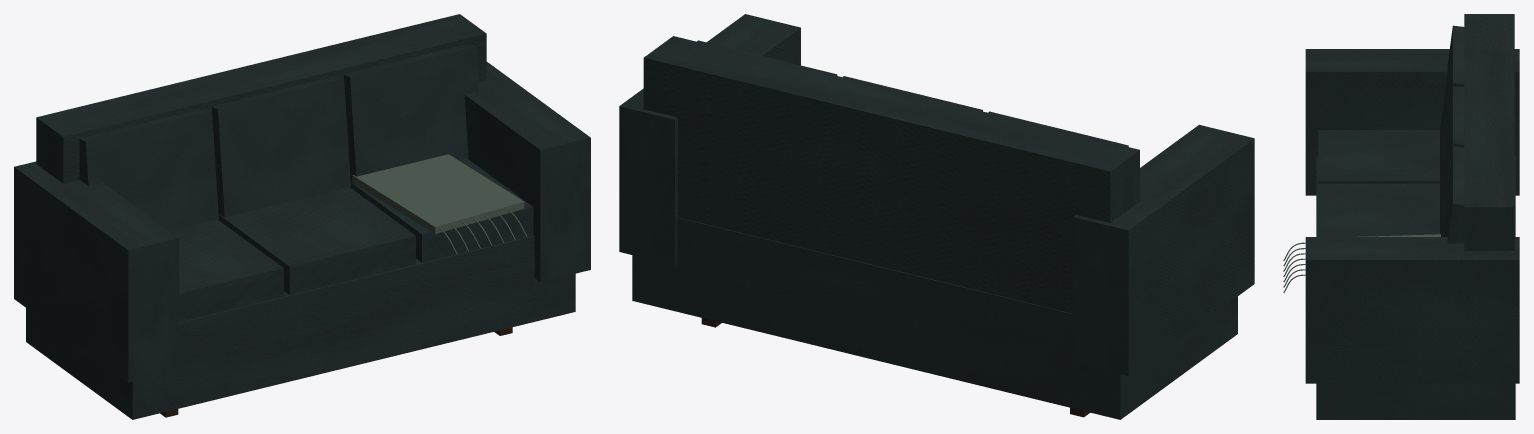
The model's file is family-sofa.glb.
3 views of the same model, side by side, from view 1: azimuth 30°, elevation 25°; view 2: azimuth 150°, elevation 25°; view 3: azimuth 270°, elevation 25° (orthographic). The views are drawn at different scales.
Parts seen in each view (by area): view 1: Sofa lower frame, Rounded sofa arm, Sofa sloping back, Rounded sofa arm.001, Loose back cushion.001, Loose back cushion.002, Worn seat cushion.001, Loose back cushion, Worn seat cushion, Folded wool throw, Worn seat cushion.002; view 2: Sofa sloping back, Sofa lower frame, Rounded sofa arm, Rounded sofa arm.001; view 3: Rounded sofa arm.001, Rounded sofa arm, Sofa sloping back, Sofa lower frame, Worn seat cushion, Worn seat cushion.001, Loose back cushion.002, Loose back cushion.001, Loose back cushion.
Part boxes in pixels (left/top/right/bottom): Sofa lower frame: left=26, top=235, right=575, bottom=419; Rounded sofa arm: left=14, top=161, right=178, bottom=382; Sofa sloping back: left=36, top=14, right=486, bottom=183; Rounded sofa arm.001: left=464, top=62, right=590, bottom=281; Loose back cushion.001: left=212, top=76, right=350, bottom=217; Loose back cushion.002: left=344, top=43, right=478, bottom=184; Worn seat cushion.001: left=218, top=187, right=415, bottom=294; Loose back cushion: left=79, top=108, right=218, bottom=230; Worn seat cushion: left=169, top=219, right=283, bottom=321; Folded wool throw: left=352, top=154, right=524, bottom=233; Worn seat cushion.002: left=350, top=158, right=533, bottom=262; Sofa sloping back: left=643, top=36, right=1139, bottom=313; Sofa lower frame: left=632, top=217, right=1237, bottom=419; Rounded sofa arm: left=1073, top=124, right=1254, bottom=376; Rounded sofa arm.001: left=619, top=14, right=800, bottom=265; Rounded sofa arm.001: left=1305, top=237, right=1519, bottom=383; Rounded sofa arm: left=1305, top=49, right=1519, bottom=195; Sofa sloping back: left=1464, top=14, right=1514, bottom=250; Sofa lower frame: left=1316, top=156, right=1515, bottom=419; Worn seat cushion: left=1318, top=130, right=1440, bottom=183; Worn seat cushion.001: left=1318, top=183, right=1439, bottom=236; Loose back cushion.002: left=1441, top=146, right=1464, bottom=243; Loose back cushion.001: left=1440, top=86, right=1464, bottom=234; Loose back cushion: left=1440, top=25, right=1464, bottom=179.
Size of the model in its own units: 2.38 by 1.2 by 1.13.
Materials: 3 (2 with a texture image).
